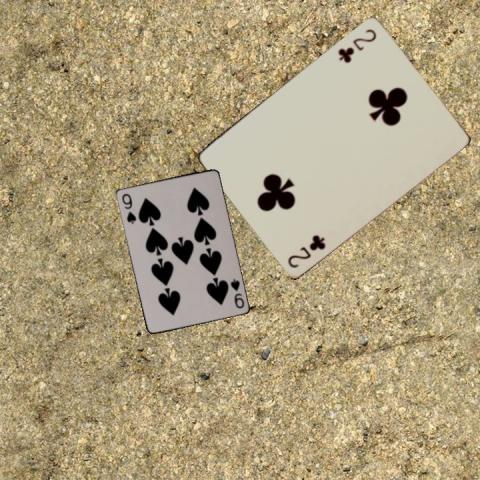2c: (335, 25, 378, 64), (285, 231, 327, 269)
9s: (119, 190, 137, 225), (228, 276, 246, 310)
